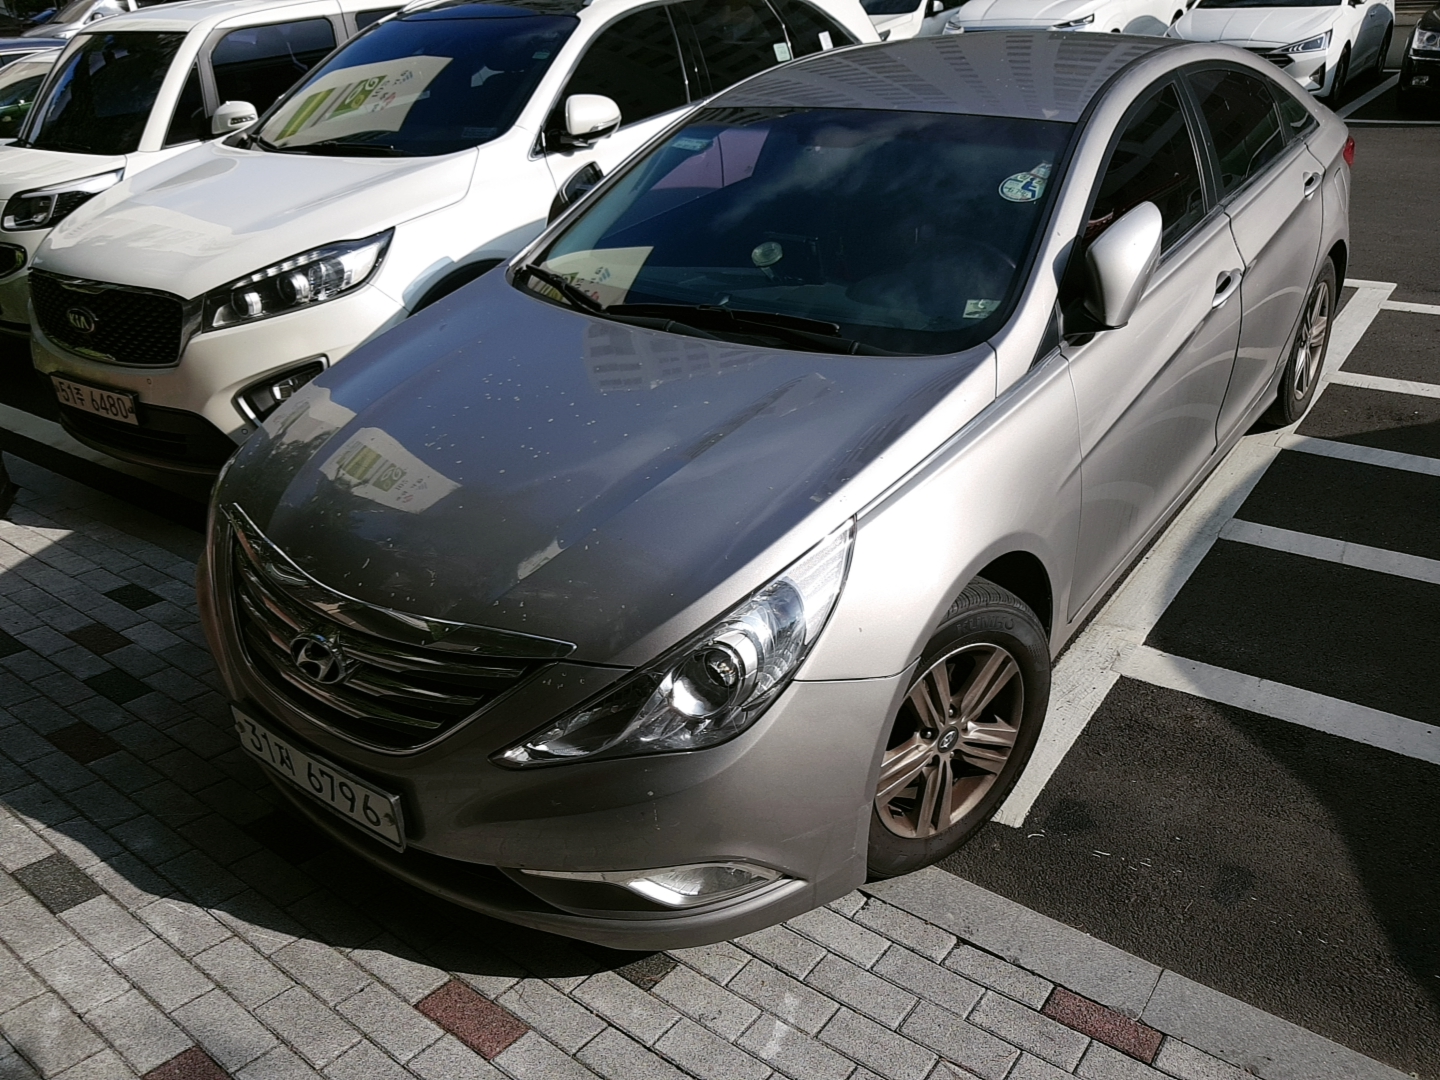disabled_parking: (999, 162, 1049, 206)
